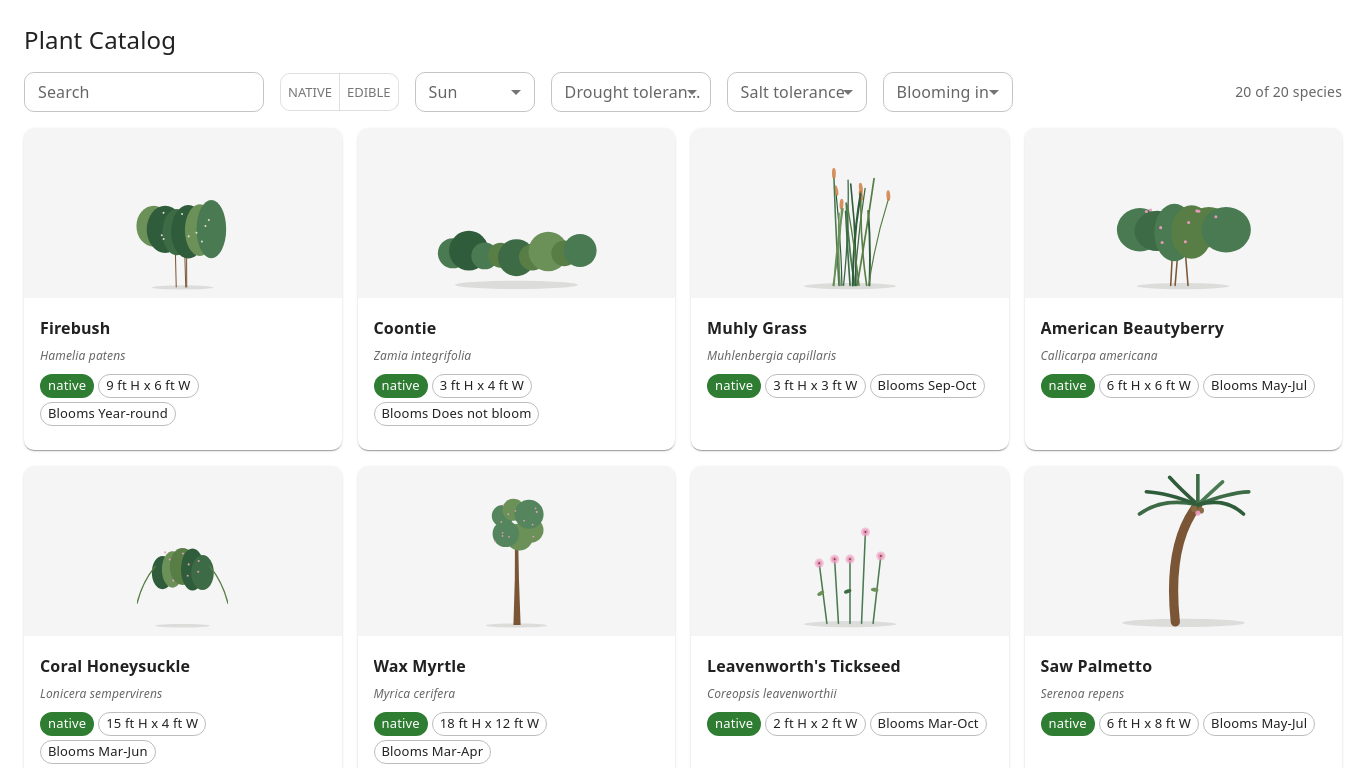
Test: CatalogView › opens the species detail dialog from a card
Click the heading "Firebush" at x=75, y=328, box left=40, top=317, right=110, bottom=339
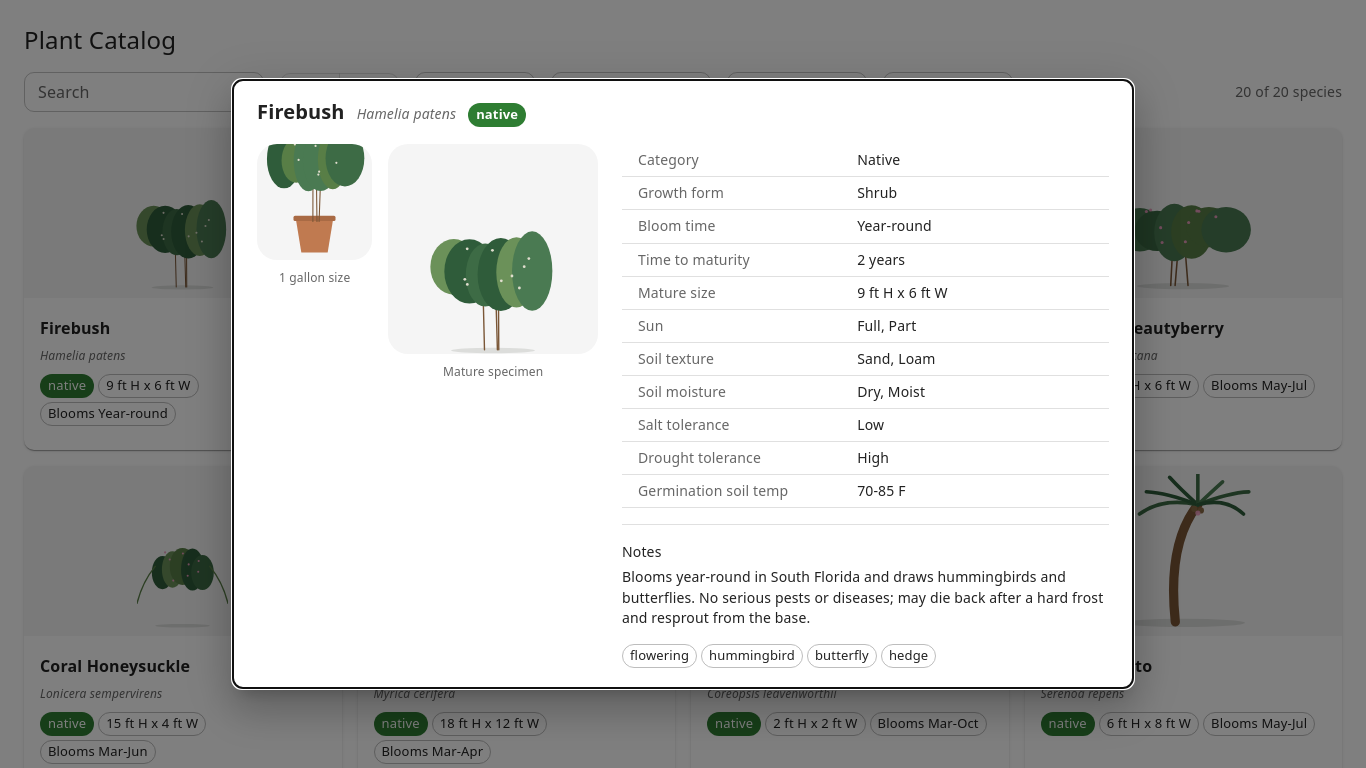
Check: the text "Hamelia patens" is shown, box left=357, top=104, right=456, bottom=124
Check: the text "Year-round" is shown, box left=841, top=210, right=1109, bottom=243
Check: the text "1 gallon size" is shown, box left=279, top=268, right=350, bottom=288
